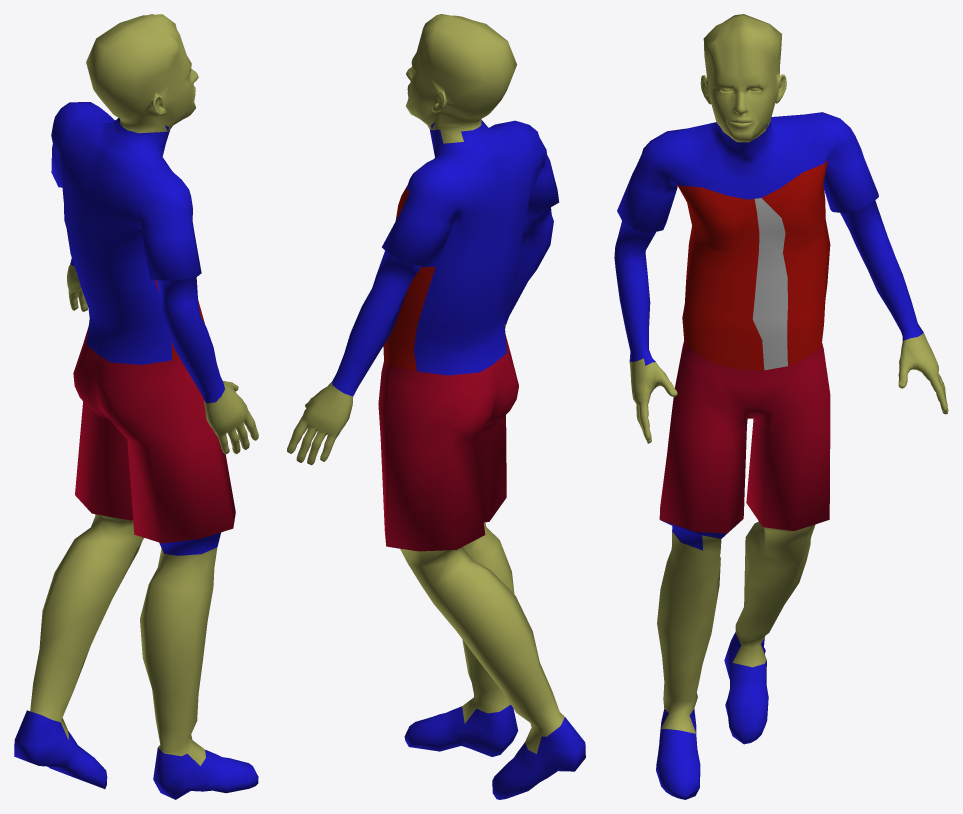
The model's file is player_000007.obj.
The picture shows the model from 3 angles, left to right: view 1: azimuth 30°, elevation 25°; view 2: azimuth 150°, elevation 25°; view 3: azimuth 270°, elevation 25°; orthographic projection. The views are drawn at different scales.
Visible parts, largest first — view 1: soccerplayer_mesh; view 2: soccerplayer_mesh; view 3: soccerplayer_mesh.
Part boxes in pixels (bbox=[...]): soccerplayer_mesh: bbox=[14, 14, 258, 799]; soccerplayer_mesh: bbox=[287, 14, 585, 799]; soccerplayer_mesh: bbox=[614, 14, 948, 799].
Bounding box in the file's own units: 1.54 × 5.44 × 2.21.
